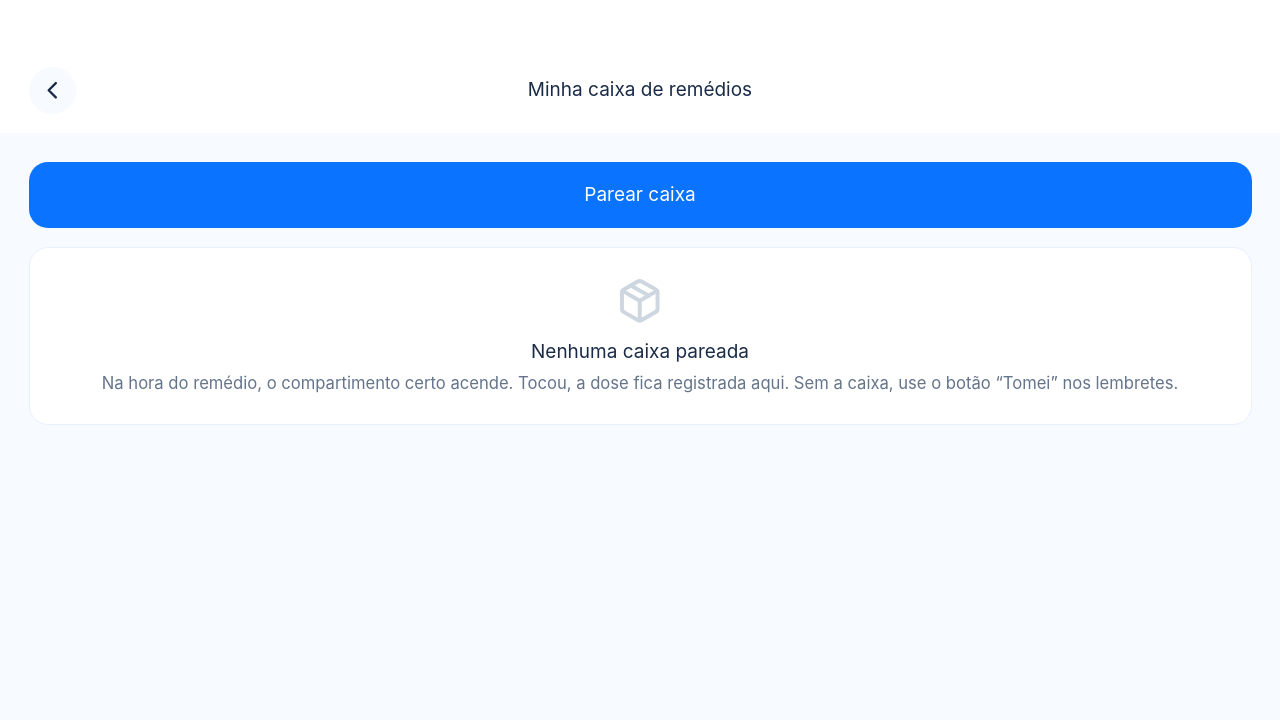
telas › tela da caixa avisa sensor sem sinal e temperatura baixa
The image size is (1280, 720).
Later steps or results of the test are not shown.
Step 1. Click the button "Parear caixa" → point(640, 195), box [28,162,1252,228]
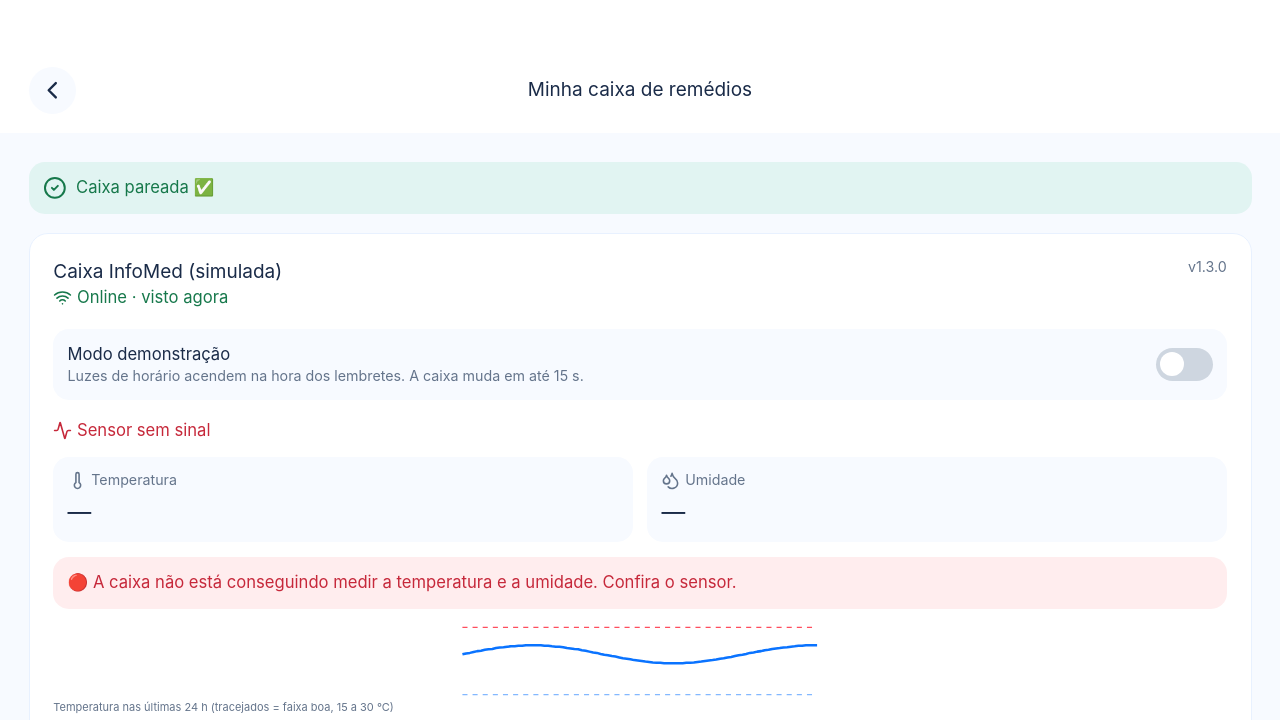
Now the text "Sensor sem sinal" is shown, box [53,420,210,440]
Now the text "não está conseguindo medir" is shown, box [68,572,736,592]
